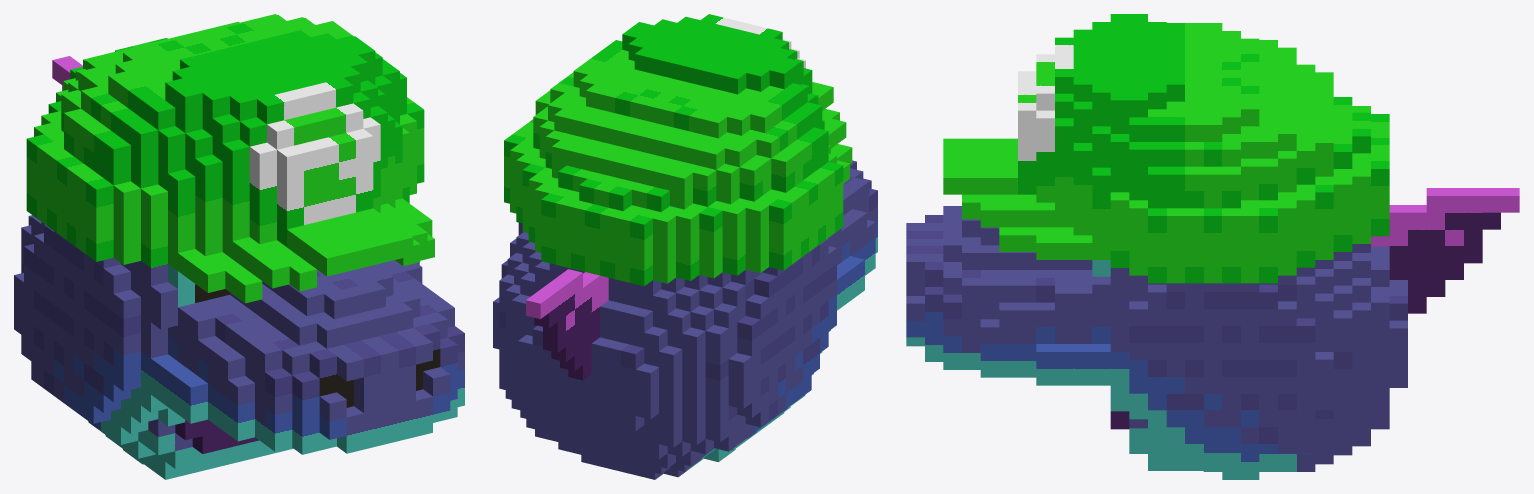
File: plumber brother cap.gltf
3 renders of one model, left to right at view 1: azimuth 30°, elevation 25°; view 2: azimuth 150°, elevation 25°; view 3: azimuth 270°, elevation 25°, orthographic. The views are drawn at different scales.
Parts seen in each view (by area): view 1: 09_1_Head_LuigiZ-Mesh; view 2: 09_1_Head_LuigiZ-Mesh; view 3: 09_1_Head_LuigiZ-Mesh.
Boxes of the visible parts, x1,y1,x2,y2 form: 09_1_Head_LuigiZ-Mesh: (14, 14, 464, 479); 09_1_Head_LuigiZ-Mesh: (493, 14, 877, 479); 09_1_Head_LuigiZ-Mesh: (906, 14, 1519, 479).
Bounding box in the file's own units: 19 × 23 × 33.
Materials: 1 (1 with a texture image).
